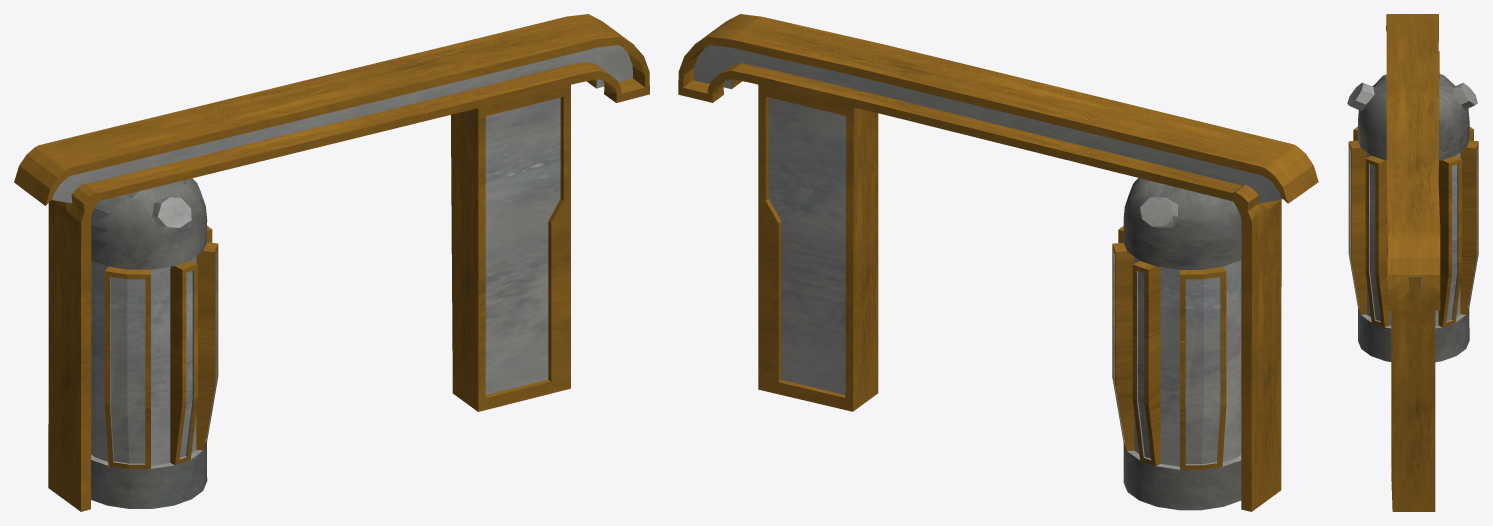
Rendered from powerthing.obj.
3 views of the same model, side by side, from view 1: azimuth 30°, elevation 25°; view 2: azimuth 150°, elevation 25°; view 3: azimuth 270°, elevation 25° (orthographic). The views are drawn at different scales.
Visible parts, largest first — view 1: mainbottom; view 2: mainbottom; view 3: mainbottom.
Part boxes in pixels (left/top/right/bottom): mainbottom: left=14, top=14, right=649, bottom=511; mainbottom: left=678, top=14, right=1318, bottom=511; mainbottom: left=1347, top=14, right=1478, bottom=511.
Bounding box in the file's own units: 334 × 183 × 74.9.
Materials: 3 (3 with a texture image).
